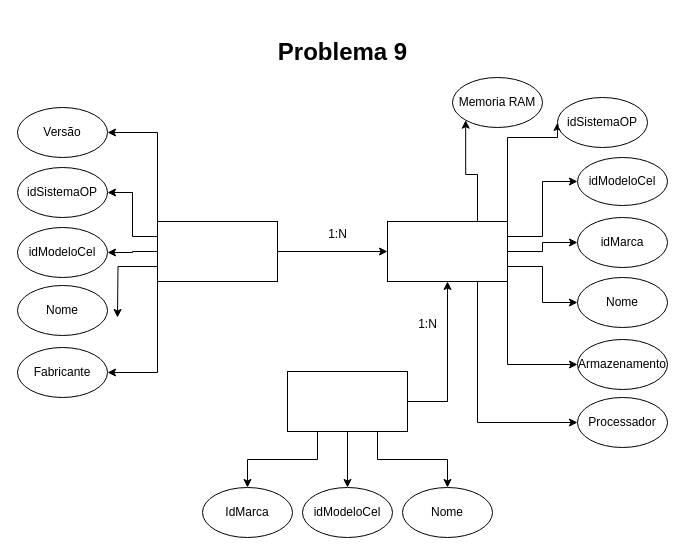
The diagram is 685 pixels wide and 555 high, and some of its shapes have lost their labels. The centre of each missing label's shape, as x and y in pixels:
"Marca" belongs at point (347, 401).
"Modelo celular" belongs at point (447, 251).
"Sistema Operacional" belongs at point (217, 251).
